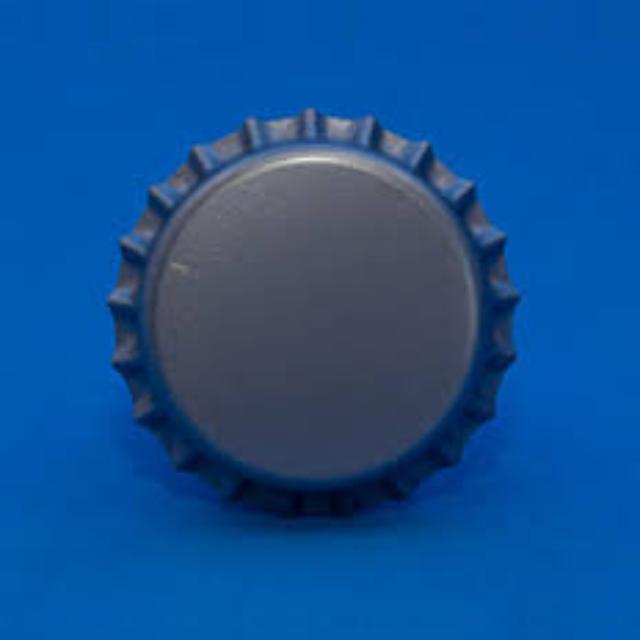Metal: (88, 86, 530, 548)
